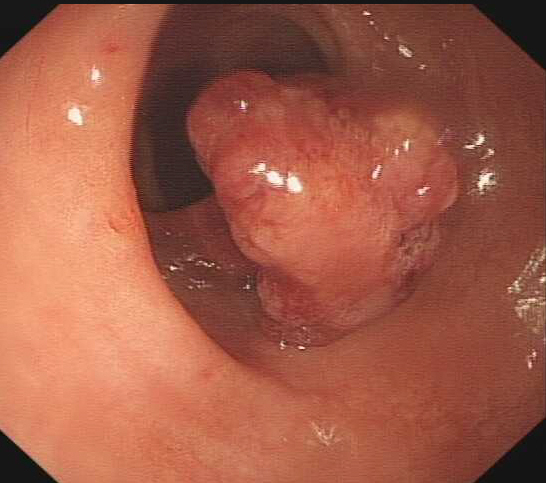adenoma: (183, 66, 459, 343)
